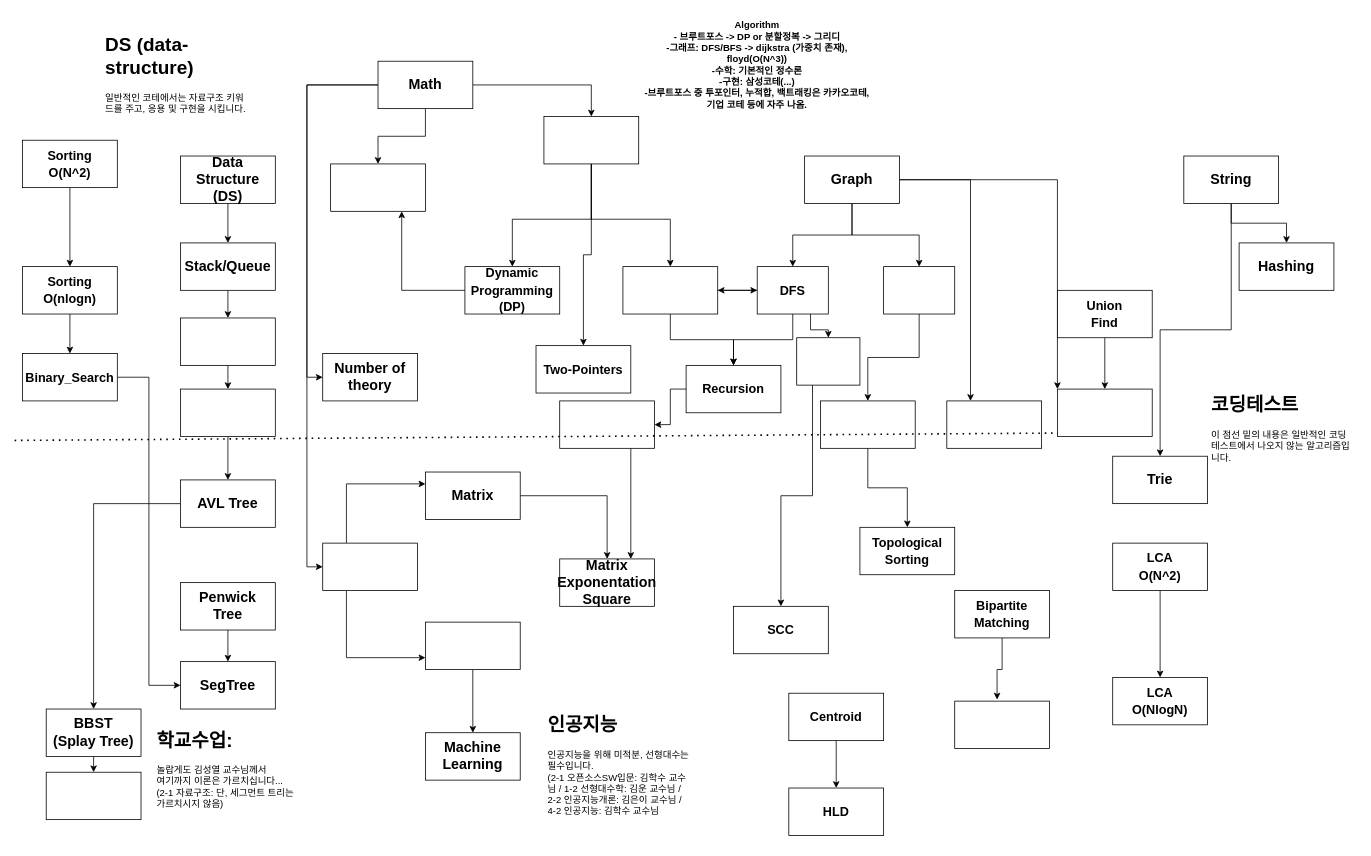
This 1371x856 diagram has some shape labels left out. The centre of each missing label's shape, as x and y in pixels:
"Backtracking" belongs at [670,290].
"BFS" belongs at [919,290].
"Bipartite Graph" belongs at [828,361].
"Bruth-Force" belongs at [591,140].
"Dijkstra" belongs at [867,424].
"Exponentiation Square" belongs at [607,424].
"Floyd" belongs at [994,424].
"Greedy" belongs at [377,187].
"Linear Algebra" belongs at [370,566].
"LinkedList / Tree" belongs at [227,412].
"MaxFlow" belongs at [1002,724].
"MST" belongs at [1104,412].
"Priority Queue" belongs at [227,341].
"Red-black tree" belongs at [93,795].
"Vector Space" belongs at [472,645].
